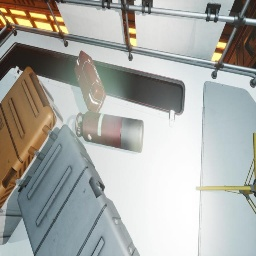FirstAidBox ,: (74, 50, 106, 113)
NitrogenTank ,: (75, 111, 144, 153)
